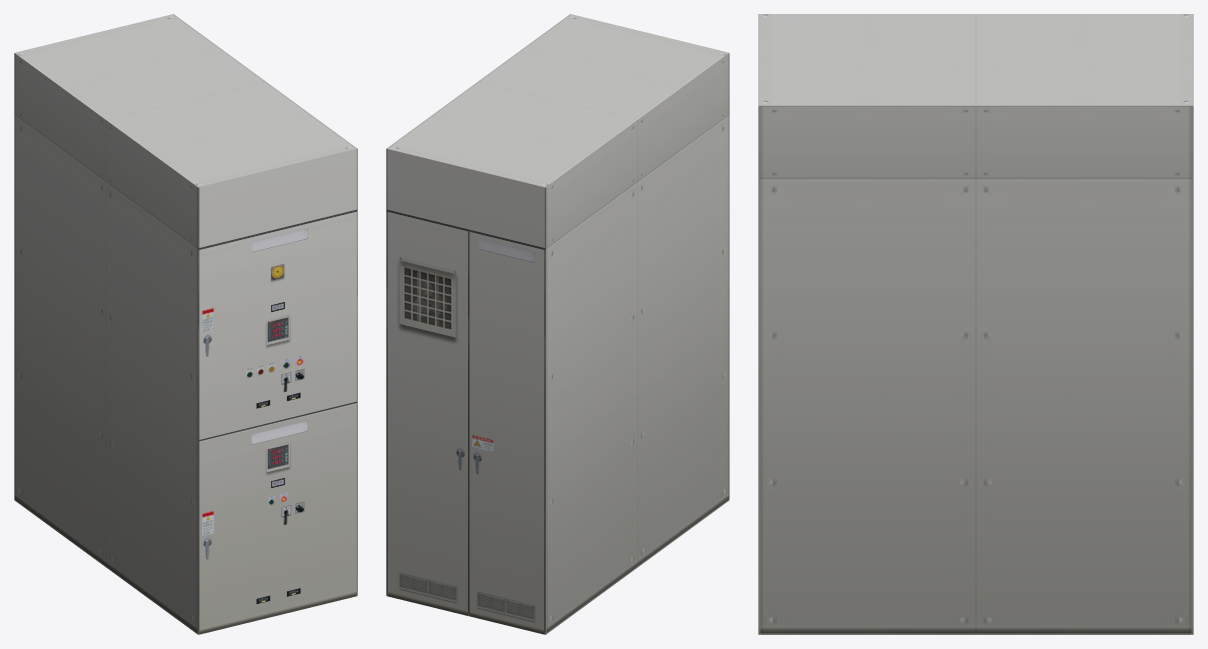
The picture shows the model from 3 angles, left to right: view 1: azimuth 30°, elevation 25°; view 2: azimuth 150°, elevation 25°; view 3: azimuth 270°, elevation 25°; orthographic projection. The views are drawn at different scales.
Parts seen in each view (by area): view 1: LV-2F3; view 2: LV-2F3; view 3: LV-2F3.
Boxes of the visible parts, x1,y1,x2,y2 form: LV-2F3: (14,14,357,634); LV-2F3: (386,14,729,634); LV-2F3: (758,14,1193,634).
Size of the model in its own units: 1.1 by 2.95 by 2.2.
1 material, 1 textured.
